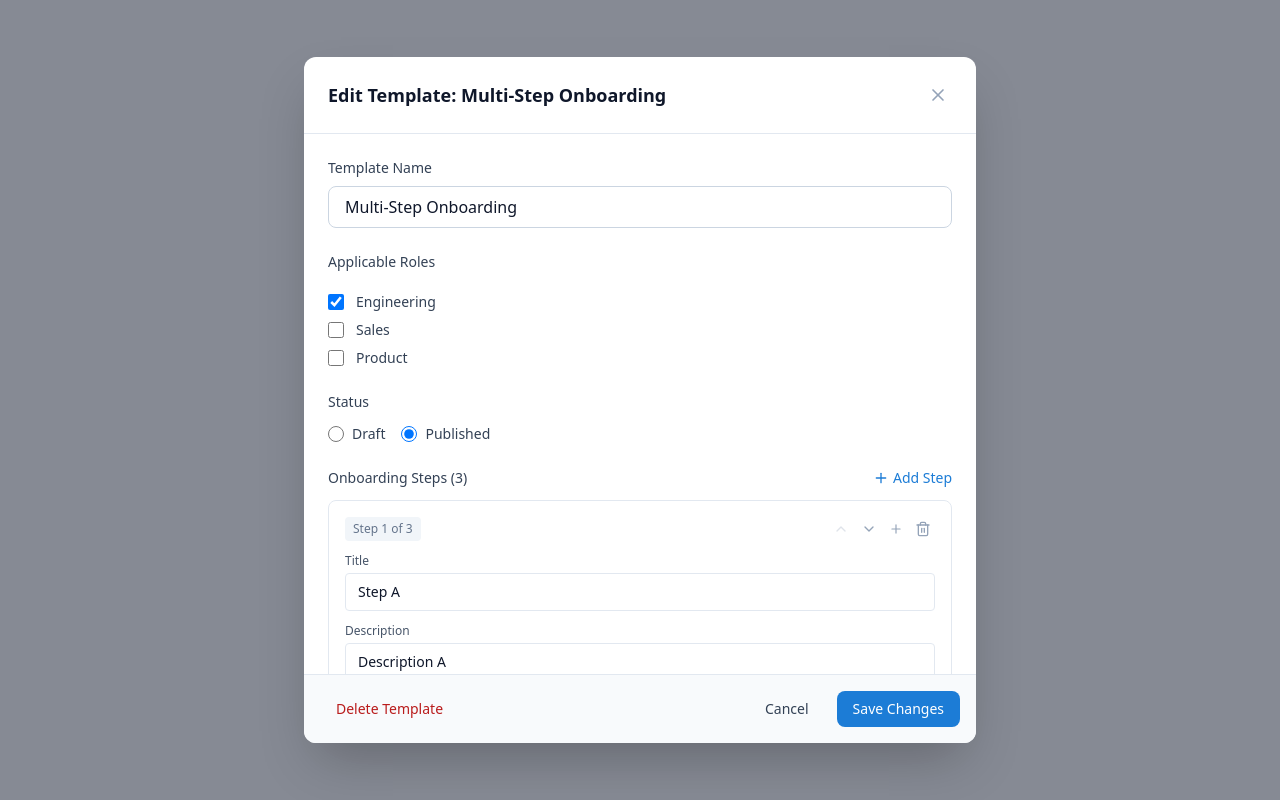
Test: TemplateModal › TemplateModal - step reorder › should preserve step data after reorder
Expected: the field showing "Step A" is shown, [345,573,935,611]
Click the button named "Move step 1 down": [869, 529] box [857,517,881,541]
(page scrolled)
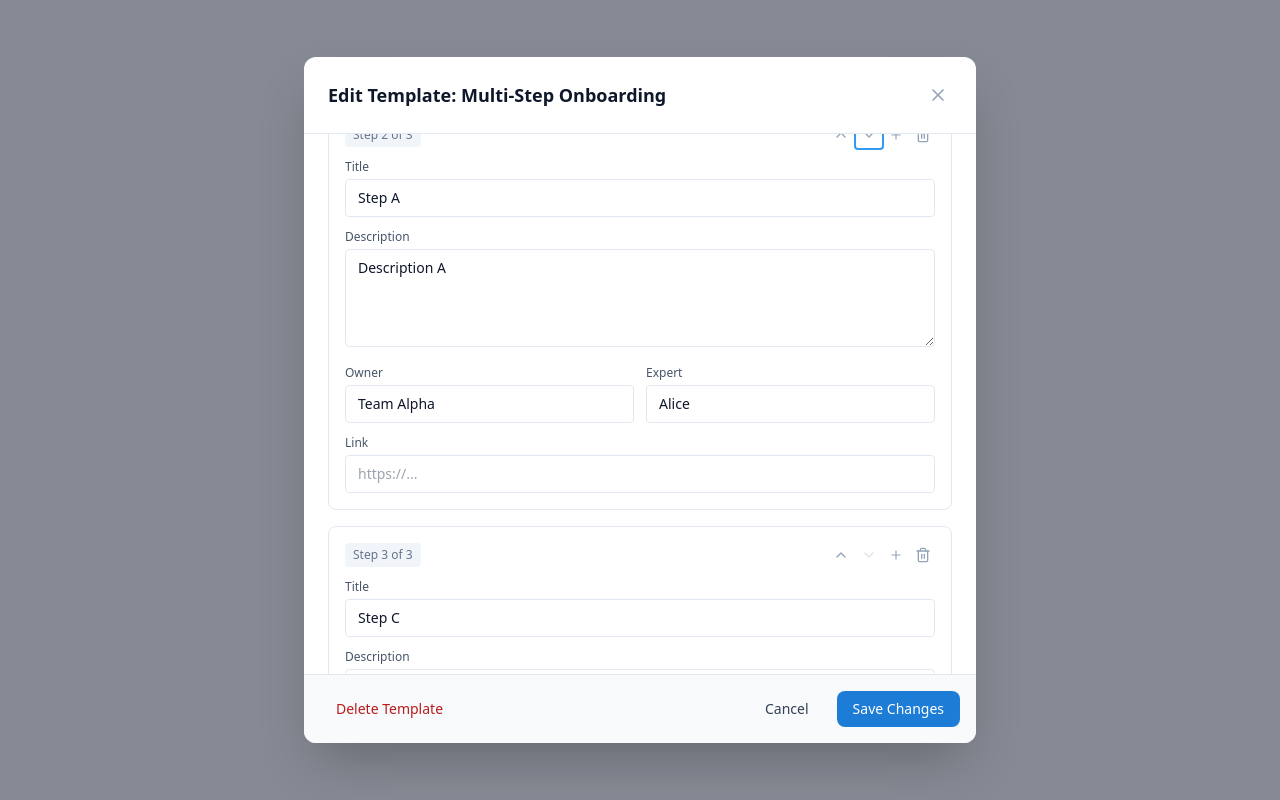
Expected: the field named "Step 2 owner" holds "Team Alpha", [345,385,634,423]
Expected: the field named "Step 2 expert" holds "Alice", [646,385,935,423]
